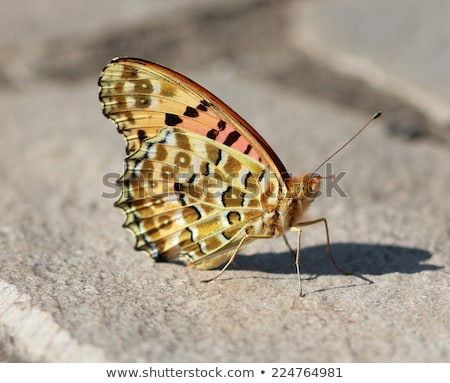Argyreus hyperbius: (91, 51, 387, 296)
butterfly: (93, 53, 389, 298)
